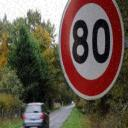speed_limit_80: (58, 0, 126, 100)
